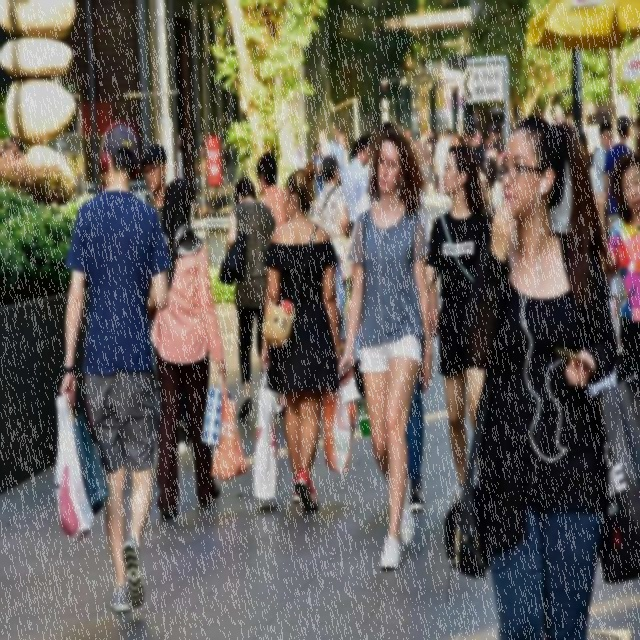pessoa: (461, 112, 618, 640), (58, 116, 172, 617), (332, 121, 434, 572), (345, 121, 443, 518), (258, 158, 346, 512), (148, 177, 232, 526), (426, 145, 490, 500), (218, 174, 278, 420), (386, 114, 512, 228), (596, 150, 640, 388), (311, 155, 350, 342), (602, 114, 636, 225), (341, 132, 374, 235), (255, 151, 288, 232), (140, 142, 169, 216), (316, 118, 350, 170), (591, 120, 614, 194), (312, 140, 326, 197), (552, 107, 568, 129)
